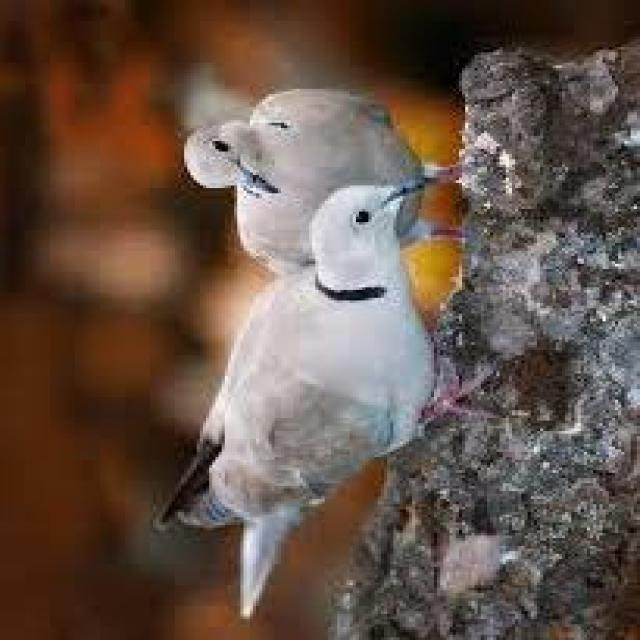pigeon: (156, 178, 470, 597)
